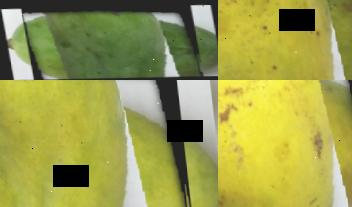PartiallyRipe: (0, 80, 191, 207), (218, 0, 352, 80)
Ripe: (218, 80, 352, 207)
Unripe: (21, 1, 201, 80)
